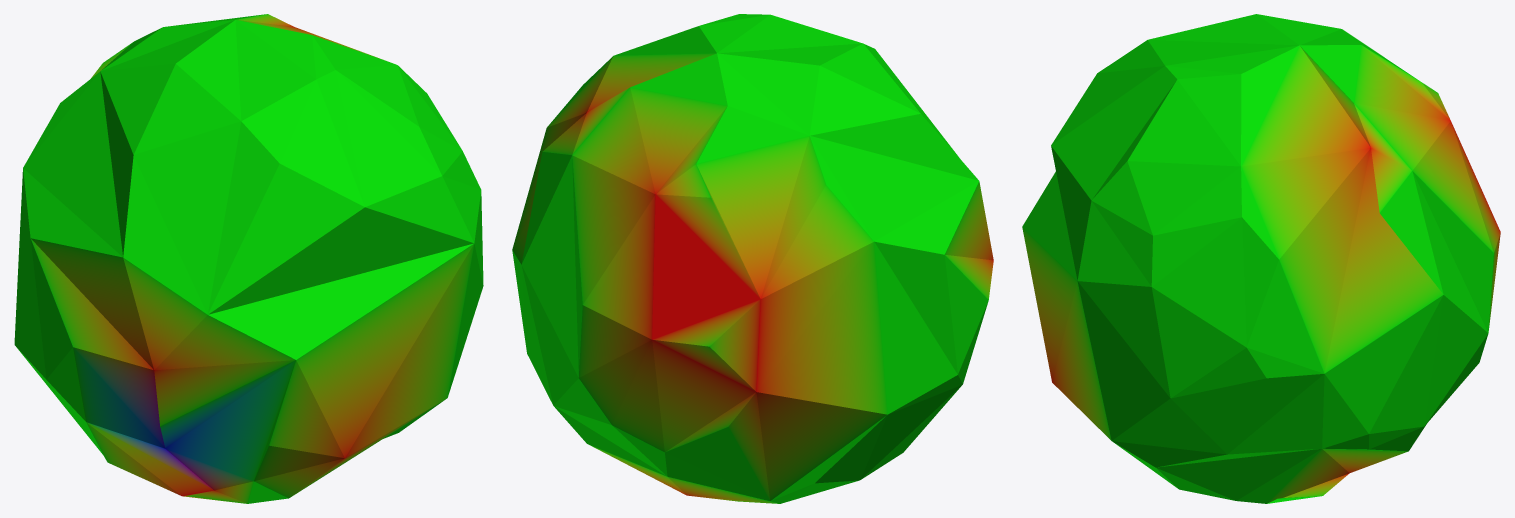
File: after_cleaning_reconquest_3.obj
3 renders of one model, left to right at view 1: azimuth 30°, elevation 25°; view 2: azimuth 150°, elevation 25°; view 3: azimuth 270°, elevation 25°, orthographic.
Bounding box in the file's own units: 1.96 × 1.96 × 1.94.
